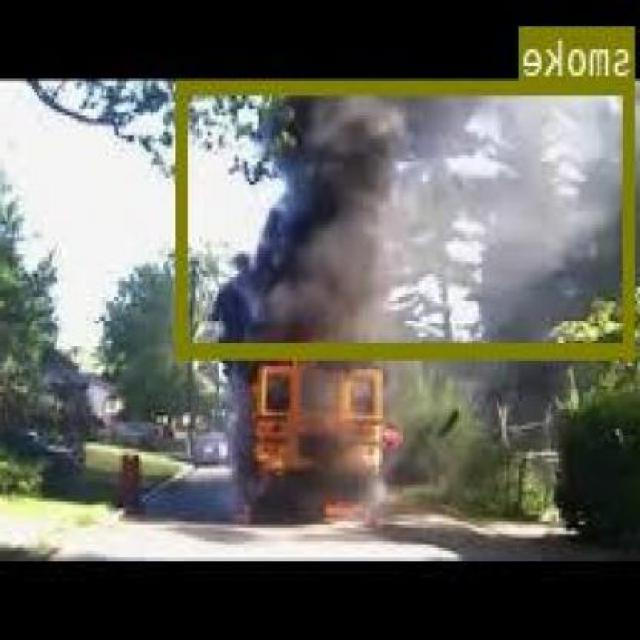Smoke: (180, 77, 637, 356)
